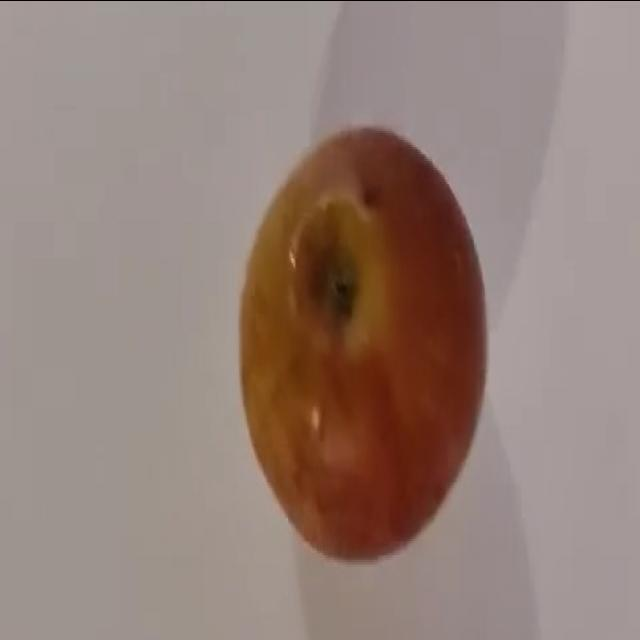Apple: (237, 124, 488, 562)
